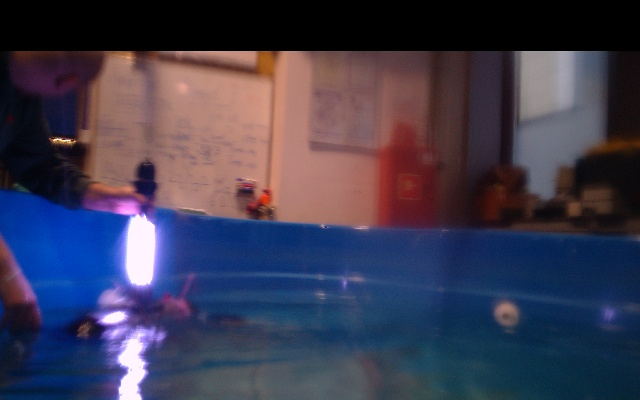white: (127, 214, 156, 294)
